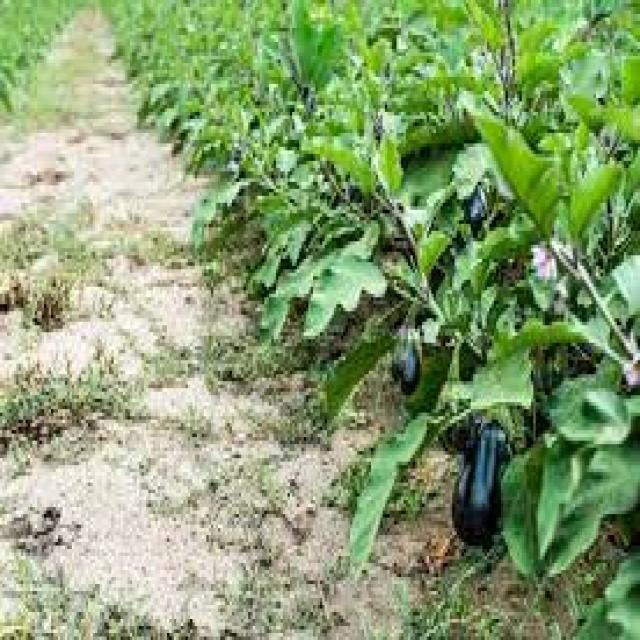Eggplant: (451, 398, 508, 552), (385, 308, 427, 392), (466, 173, 494, 236)
